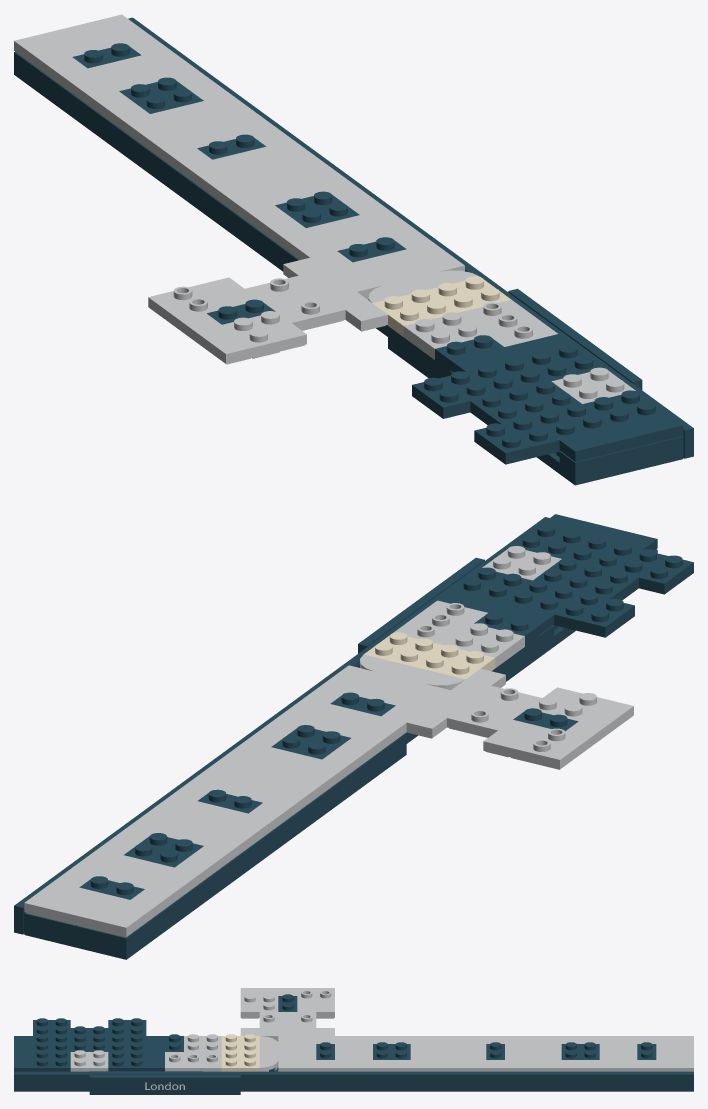
The model's file is London_1.dae.
3 views of the same model, one above another, from view 1: azimuth 30°, elevation 25°; view 2: azimuth 150°, elevation 25°; view 3: azimuth 270°, elevation 25° (orthographic). The views are drawn at different scales.
Parts seen in each view (by area): view 1: Untitled_035, Untitled_037, Untitled_042, Untitled_034, Untitled_038, Untitled, Untitled_041, Untitled_039, Untitled_016, Untitled_036, Untitled_004, Untitled_055 (+67 smaller); view 2: Untitled_037, Untitled_035, Untitled_042, Untitled, Untitled_038, Untitled_041, Untitled_039, Untitled_034, Untitled_036, Untitled_004, Untitled_053, Untitled_099 (+65 smaller); view 3: Untitled_033, Untitled_029, Untitled_030, Untitled_037, Untitled_035, Untitled_028, Untitled_025, Untitled_032, Untitled_031, Untitled_042, Untitled_038, Untitled_036 (+66 smaller).
Part boxes in pixels (x1,y1,x2,y2): Untitled_035: (474, 390, 667, 464); Untitled_037: (412, 344, 604, 418); Untitled_042: (373, 276, 511, 336); Untitled_034: (559, 414, 683, 461); Untitled_038: (470, 380, 581, 424); Untitled: (14, 63, 200, 211); Untitled_041: (403, 312, 488, 359); Untitled_039: (450, 334, 573, 372); Untitled_016: (388, 337, 629, 485); Untitled_036: (551, 367, 635, 403); Untitled_004: (92, 109, 217, 211); Untitled_055: (222, 311, 290, 358); Untitled_037: (452, 567, 634, 637); Untitled_035: (511, 524, 693, 594); Untitled_042: (364, 632, 495, 679); Untitled: (75, 820, 303, 959); Untitled_038: (533, 558, 638, 600); Untitled_041: (444, 623, 524, 667); Untitled_039: (437, 589, 554, 634); Untitled_034: (541, 514, 657, 550); Untitled_036: (482, 546, 561, 580); Untitled_004: (199, 798, 318, 894); Untitled_053: (509, 737, 574, 769); Untitled_099: (75, 904, 141, 937); Untitled_033: (89, 1075, 240, 1094); Untitled_029: (316, 1071, 429, 1091); Untitled_030: (429, 1071, 542, 1091); Untitled_037: (108, 1018, 146, 1071); Untitled_035: (33, 1018, 70, 1071); Untitled_028: (203, 1071, 316, 1091); Untitled_025: (14, 1071, 89, 1091); Untitled_032: (618, 1071, 693, 1091); Untitled_031: (543, 1071, 618, 1091); Untitled_042: (221, 1034, 259, 1071); Untitled_038: (70, 1026, 108, 1051); Untitled_036: (70, 1050, 108, 1071).
Bounding box in the file's own units: 0.0864 × 0.288 × 0.0112.
